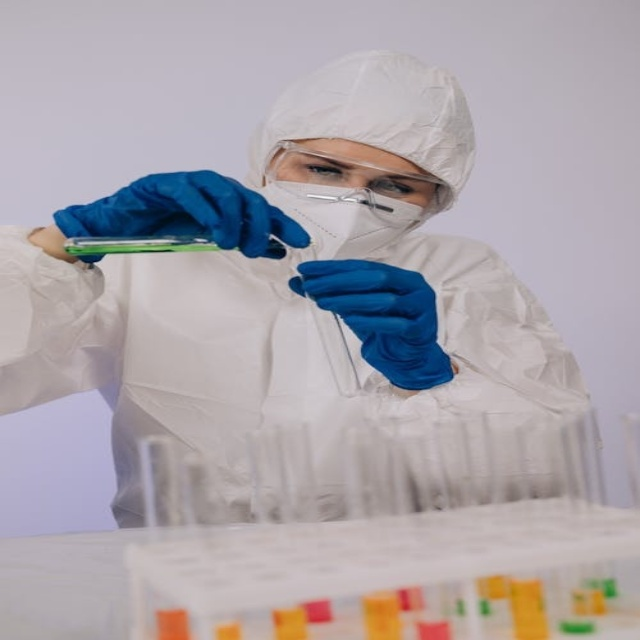Gafas: (274, 144, 446, 216)
Guantes: (52, 169, 312, 263), (288, 258, 454, 391)
Mascara: (253, 175, 428, 266)
